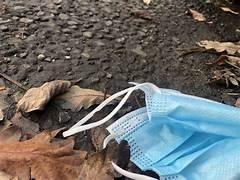Mask: (64, 83, 239, 179)
